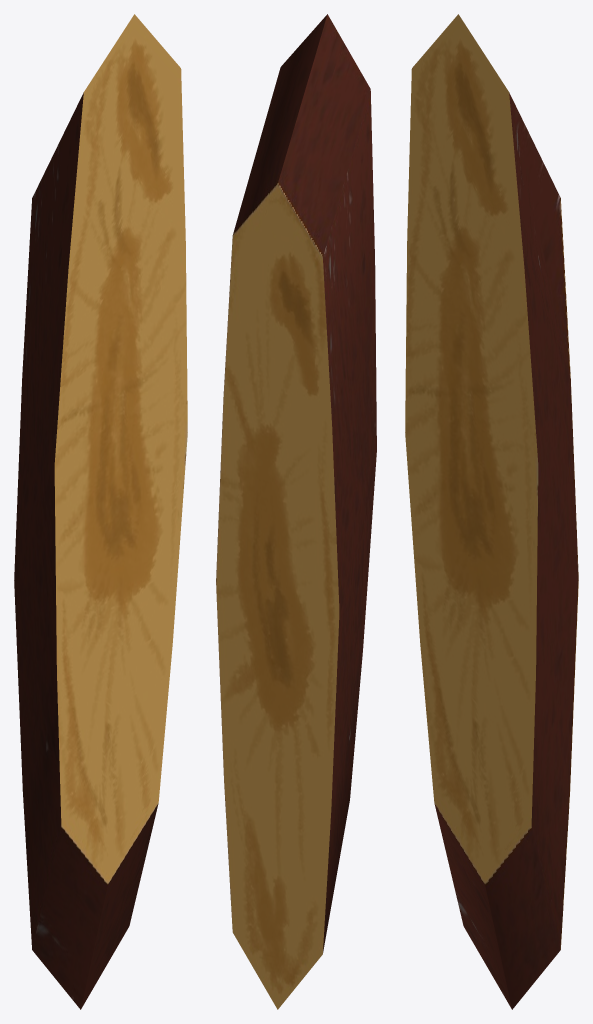
File: Gamcho_02.fbx
3 renders of one model, left to right at view 1: azimuth 30°, elevation 25°; view 2: azimuth 150°, elevation 25°; view 3: azimuth 330°, elevation 25°, orthographic. The views are drawn at different scales.
Parts seen in each view (by area): view 1: 감초2_1; view 2: 감초2_1; view 3: 감초2_1.
Boxes of the visible parts, x1,y1,x2,y2 form: 감초2_1: (14,14,187,1009); 감초2_1: (216,14,376,1009); 감초2_1: (405,14,578,1009).
Size of the model in its own units: 5.41 by 40.2 by 3.78.
1 material, 1 textured.
